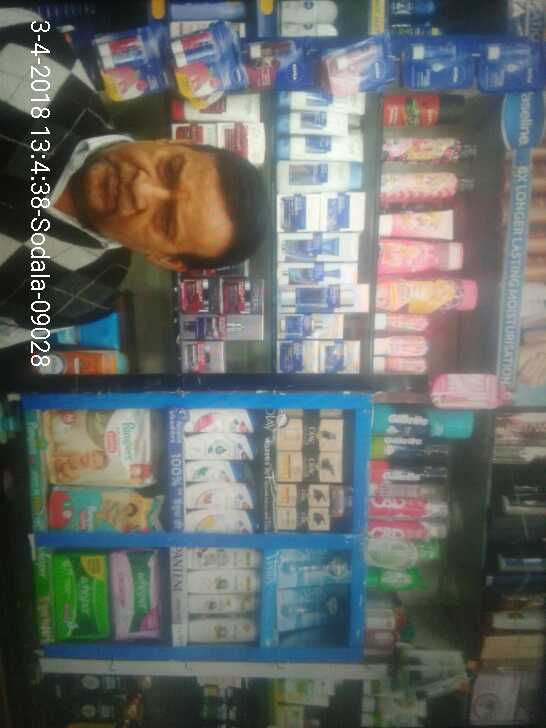gillete: (374, 404, 479, 433), (374, 433, 458, 458), (371, 459, 448, 483)
venus: (279, 548, 352, 584), (278, 592, 342, 621)
